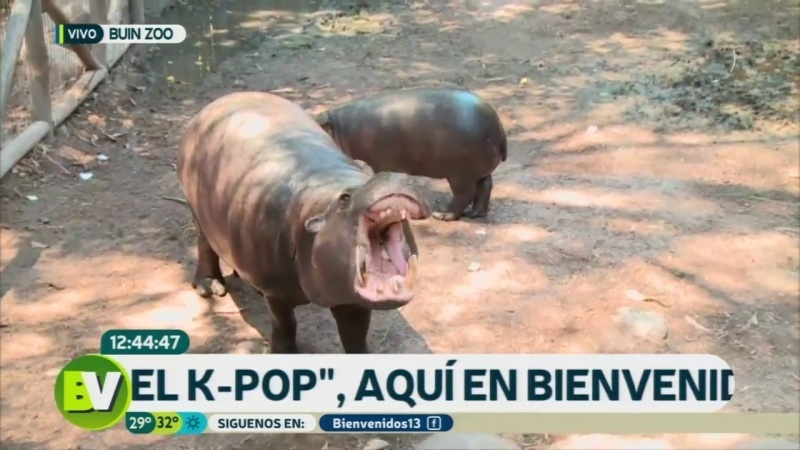hipopotamo: (158, 81, 431, 353), (314, 67, 518, 235)
